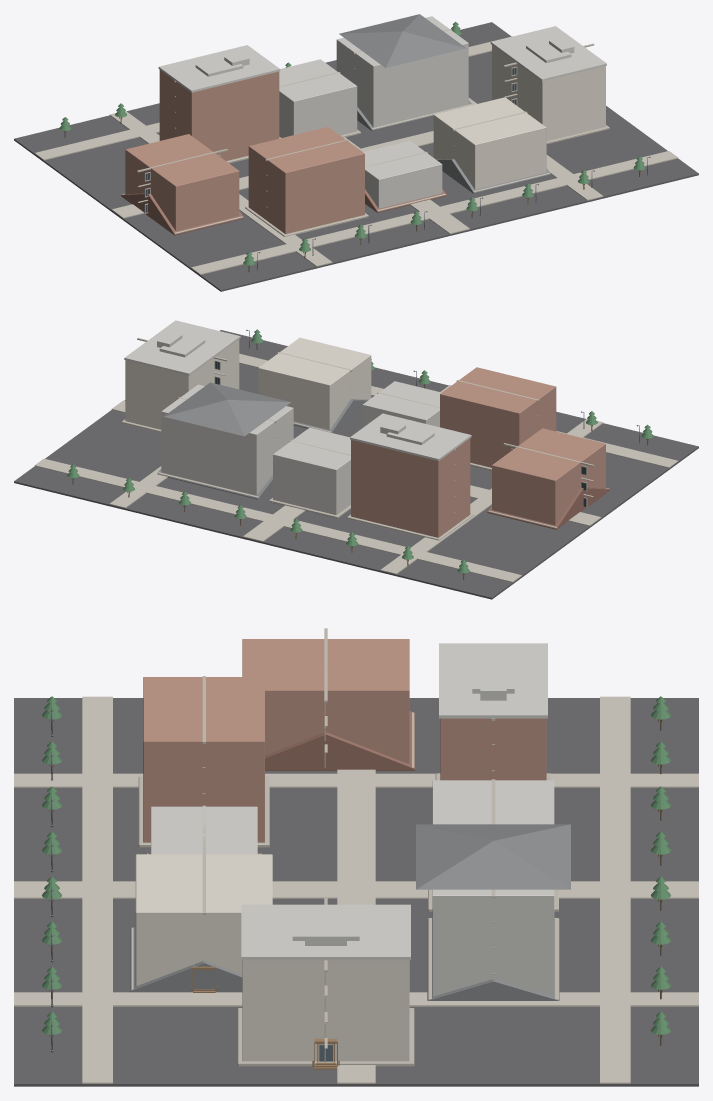
The model's file is DISTRICT_G_URBAN_BLOCKS.glb.
3 renders of one model, top to bottom at view 1: azimuth 30°, elevation 25°; view 2: azimuth 150°, elevation 25°; view 3: azimuth 270°, elevation 25°, orthographic. The views are drawn at different scales.
Visible parts, largest first — view 1: G_Ground, Mass, G_Walk, Mass.001, Mass.007, Mass.002, Mass.003, Mass.006, Mass.005, Mass.004, Roof_HipEnd, Roof_Flat.001 (+4 smaller); view 2: G_Ground, Mass.001, G_Walk, Mass, Mass.007, Mass.003, Mass.002, Mass.005, Mass.006, Roof_HipEnd, Roof_Flat.001, Roof_Flat (+5 smaller); view 3: G_Ground, G_Walk, Mass.006, Mass.007, Mass, Mass.002, Mass.003, Roof_HipEnd, Roof_Flat.001, Roof_Flat, Mass.001, Mass.004 (+6 smaller).
Boxes of the visible parts, x1,y1,x2,y2 form: G_Ground: [14, 22, 698, 291]; Mass: [248, 127, 364, 234]; G_Walk: [34, 36, 678, 274]; Mass.001: [159, 70, 279, 160]; Mass.007: [125, 134, 239, 231]; Mass.002: [433, 97, 546, 189]; Mass.003: [336, 16, 468, 127]; Mass.006: [492, 45, 605, 140]; Mass.005: [279, 59, 357, 137]; Mass.004: [363, 141, 442, 208]; Roof_HipEnd: [339, 14, 466, 67]; Roof_Flat.001: [490, 26, 606, 81]; G_Ground: [14, 330, 698, 599]; Mass.001: [351, 438, 470, 537]; G_Walk: [34, 353, 678, 582]; Mass: [440, 367, 556, 467]; Mass.007: [492, 428, 605, 525]; Mass.003: [161, 384, 293, 495]; Mass.002: [258, 337, 371, 429]; Mass.005: [273, 427, 350, 515]; Mass.006: [125, 339, 239, 429]; Roof_HipEnd: [164, 382, 290, 436]; Roof_Flat.001: [124, 320, 240, 375]; Roof_Flat: [350, 413, 471, 460]; G_Ground: [14, 698, 698, 1086]; G_Walk: [14, 696, 698, 1083]; Mass.006: [242, 960, 409, 1061]; Mass.007: [242, 639, 409, 764]; Mass: [143, 677, 264, 842]; Mass.002: [135, 854, 272, 986]; Mass.003: [432, 818, 554, 996]; Roof_HipEnd: [416, 824, 570, 889]; Roof_Flat.001: [241, 904, 410, 960]; Roof_Flat: [439, 643, 547, 718]; Mass.001: [440, 718, 546, 780]; Mass.004: [151, 806, 257, 854].
Bounding box in the file's own units: 120 × 21.3 × 90.
